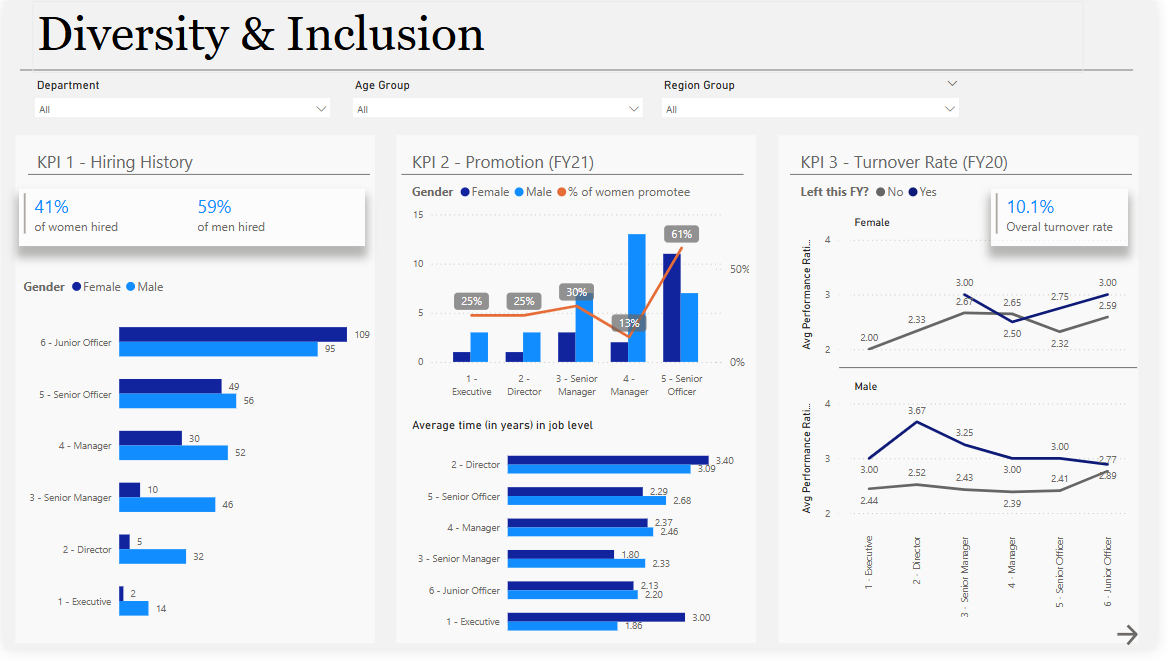

This screenshot's page, from the dashboard's own definition file:
{"tool":"powerbi","page":{"name":"Diversity & Inclusion Analysis Dashboard I","canvas":[1280,720],"ordinal":0},"visuals":[{"type":"basicShape","box":[8,144,408,576],"z":0},{"type":"basicShape","box":[8,56,1256,40],"z":1000},{"type":"slicer","fields":{"Values":["Pharma Group AG.Last Department in FY20"]},"box":[24,80,350,64],"z":2000},{"type":"basicShape","box":[432,144,408,576],"z":3000},{"type":"basicShape","box":[856,144,408,576],"z":4000},{"type":"clusteredBarChart","title":"Hiring Job Level","fields":{"Category":["Pharma Group AG.Job Level after FY20 promotions"],"Y":["CountNonNull(Pharma Group AG.Employee ID)"],"Series":["Pharma Group AG.Gender"]},"box":[16,296,400,416],"z":6000},{"type":"multiRowCard","fields":{"Values":["Pharma Group AG.% hire women","Pharma Group AG.% hire men"]},"box":[16,208,384,64],"z":7000},{"type":"basicShape","box":[16,176,400,32],"z":8000},{"type":"textbox","box":[32,160,320,48],"z":9000},{"type":"slicer","fields":{"Values":["Pharma Group AG.Age group"]},"box":[376,80,344,64],"z":10000},{"type":"slicer","fields":{"Values":["Pharma Group AG.Broad region group: nationality 1"]},"box":[720,80,352,64],"z":11000},{"type":"lineClusteredColumnComboChart","fields":{"Y2":["Pharma Group AG.% women promoted"],"Y":["CountNonNull(Pharma Group AG.Employee ID)"],"Category":["Pharma Group AG.Job Level after FY21 promotions"],"Series":["Pharma Group AG.Gender"]},"box":[448,192,384,256],"z":12000},{"type":"basicShape","box":[432,176,400,32],"z":13000},{"type":"basicShape","box":[864,176,400,32],"z":14000},{"type":"clusteredBarChart","title":"Average time (in years) in job level","fields":{"Y":["Avg(Pharma Group AG.Time in Job Level @01.07.2020)"],"Category":["Pharma Group AG.Job Level after FY20 promotions"],"Series":["Pharma Group AG.Gender"]},"box":[448,464,368,256],"z":15000},{"type":"textbox","box":[448,160,320,48],"z":16000},{"type":"lineChart","fields":{"Category":["Pharma Group AG.Job Level after FY20 promotions"],"Series":["Pharma Group AG.FY20 leaver?"],"Y":["Avg(Pharma Group AG.FY19 Performance Rating)"],"Rows":["Pharma Group AG.Gender"]},"box":[880,192,384,512],"z":17000},{"type":"multiRowCard","fields":{"Values":["Pharma Group AG.% turnover"]},"box":[1096,208,152,64],"z":18000},{"type":"actionButton","box":[1232,688,48,32],"z":19000},{"type":"textbox","box":[880,160,368,48],"z":20000},{"type":"textbox","box":[32,0,1168,80],"z":21000}]}

Visuals, with their boxes in screenshot pixels (x1, y1, x2, y2), scaled from the page's 1280x720 canvas onto the 1168x661 screenshot:
basicShape: bbox=[7, 132, 380, 660]
basicShape: bbox=[7, 51, 1153, 88]
slicer - Pharma Group AG.Last Department in FY20: bbox=[22, 73, 341, 132]
basicShape: bbox=[394, 132, 766, 660]
basicShape: bbox=[781, 132, 1153, 660]
"Hiring Job Level" clusteredBarChart: bbox=[15, 272, 380, 654]
multiRowCard - Pharma Group AG.% hire women x Pharma Group AG.% hire men: bbox=[15, 191, 365, 250]
basicShape: bbox=[15, 162, 380, 191]
textbox: bbox=[29, 147, 321, 191]
slicer - Pharma Group AG.Age group: bbox=[343, 73, 657, 132]
slicer - Pharma Group AG.Broad region group: nationality 1: bbox=[657, 73, 978, 132]
lineClusteredColumnComboChart - Pharma Group AG.% women promoted x CountNonNull(Pharma Group AG.Employee ID): bbox=[409, 176, 759, 411]
basicShape: bbox=[394, 162, 759, 191]
basicShape: bbox=[788, 162, 1153, 191]
"Average time (in years) in job level" clusteredBarChart: bbox=[409, 426, 745, 660]
textbox: bbox=[409, 147, 701, 191]
lineChart - Pharma Group AG.Job Level after FY20 promotions x Pharma Group AG.FY20 leaver?: bbox=[803, 176, 1153, 646]
multiRowCard - Pharma Group AG.% turnover: bbox=[1000, 191, 1139, 250]
actionButton: bbox=[1124, 632, 1167, 660]
textbox: bbox=[803, 147, 1139, 191]
textbox: bbox=[29, 0, 1095, 73]
